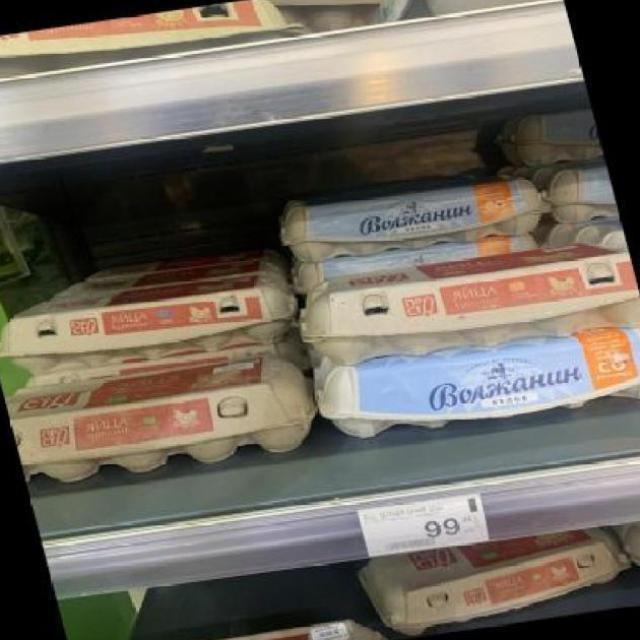Egg: (287, 236, 640, 374), (4, 349, 323, 490), (0, 261, 305, 386)
